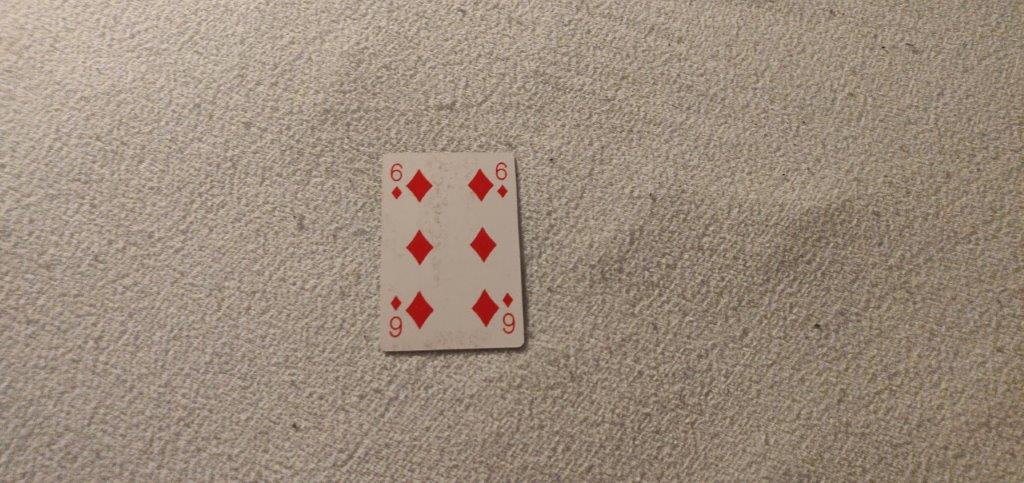6D: (386, 161, 406, 200), (493, 159, 510, 201)
